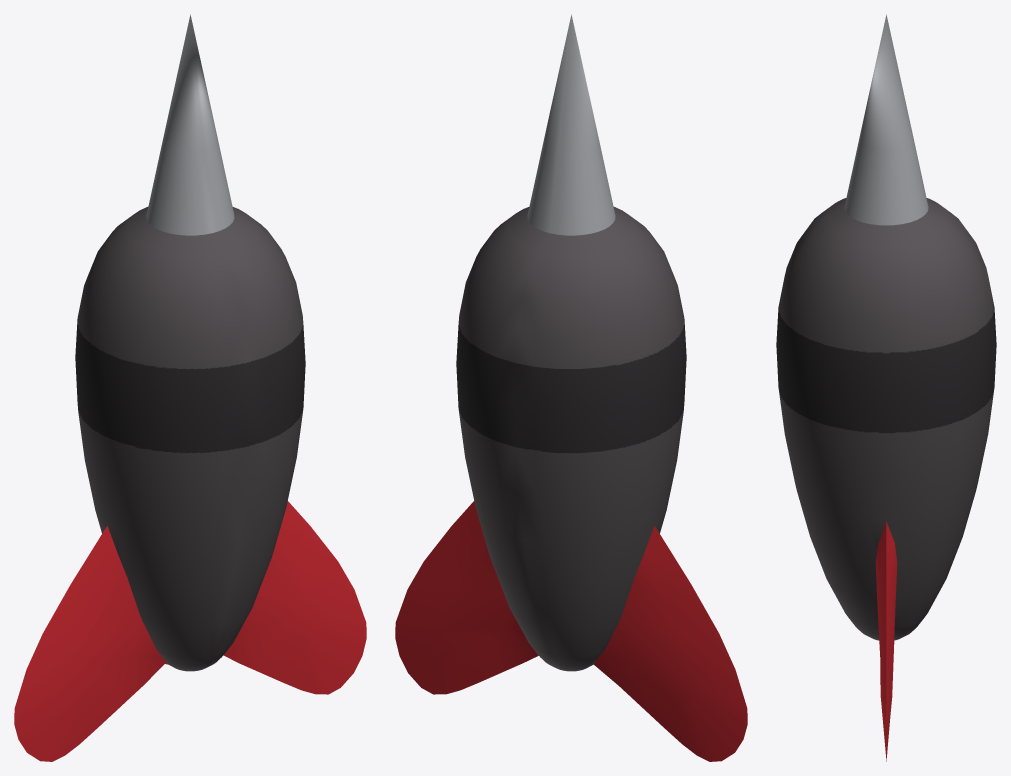
Rendered from Dart.fbx.
3 renders of one model, left to right at view 1: azimuth 30°, elevation 25°; view 2: azimuth 150°, elevation 25°; view 3: azimuth 270°, elevation 25°, orthographic. The views are drawn at different scales.
Parts seen in each view (by area): view 1: Dart; view 2: Dart; view 3: Dart.
Boxes of the visible parts, bbox=[...] form: Dart: bbox=[14, 14, 366, 761]; Dart: bbox=[395, 14, 747, 761]; Dart: bbox=[776, 14, 996, 761].
Size of the model in its own units: 353 by 683 by 200.
